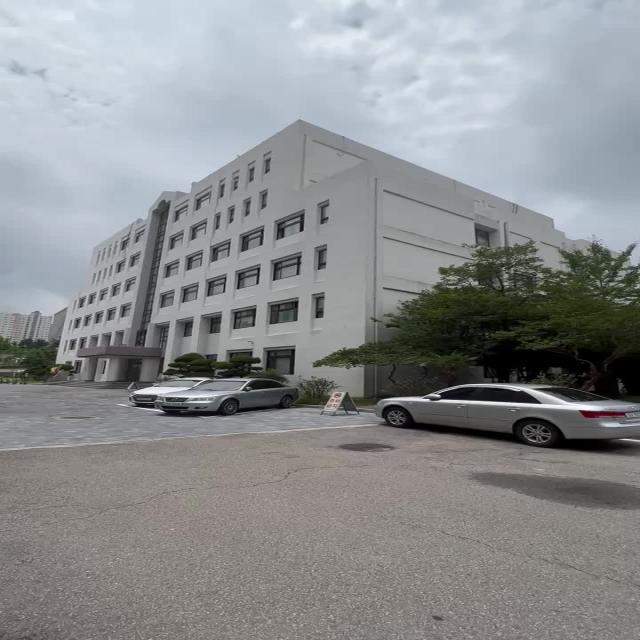building: (78, 127, 390, 380)
